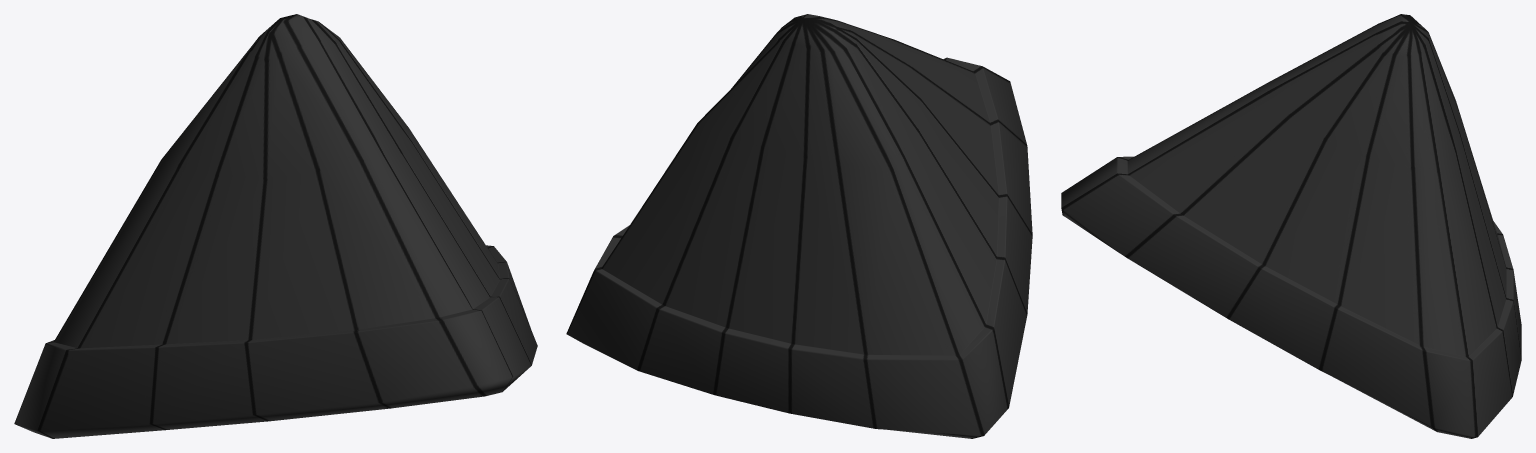
Rendered from tri_thief_hat.fbx.
3 renders of one model, left to right at view 1: azimuth 30°, elevation 25°; view 2: azimuth 150°, elevation 25°; view 3: azimuth 270°, elevation 25°, orthographic. The views are drawn at different scales.
Parts seen in each view (by area): view 1: thief_hat; view 2: thief_hat; view 3: thief_hat.
Boxes of the visible parts, x1=… form: thief_hat: x1=14, y1=14, x2=537, y2=438; thief_hat: x1=566, y1=14, x2=1032, y2=438; thief_hat: x1=1061, y1=14, x2=1521, y2=438.
Bounding box in the file's own units: 3.88 × 3.07 × 3.87.
1 material, 1 textured.
